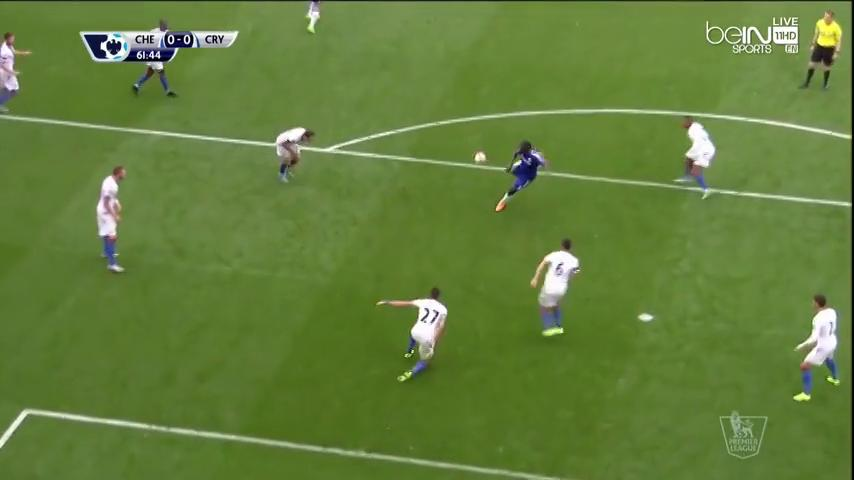football: (474, 150, 487, 164)
